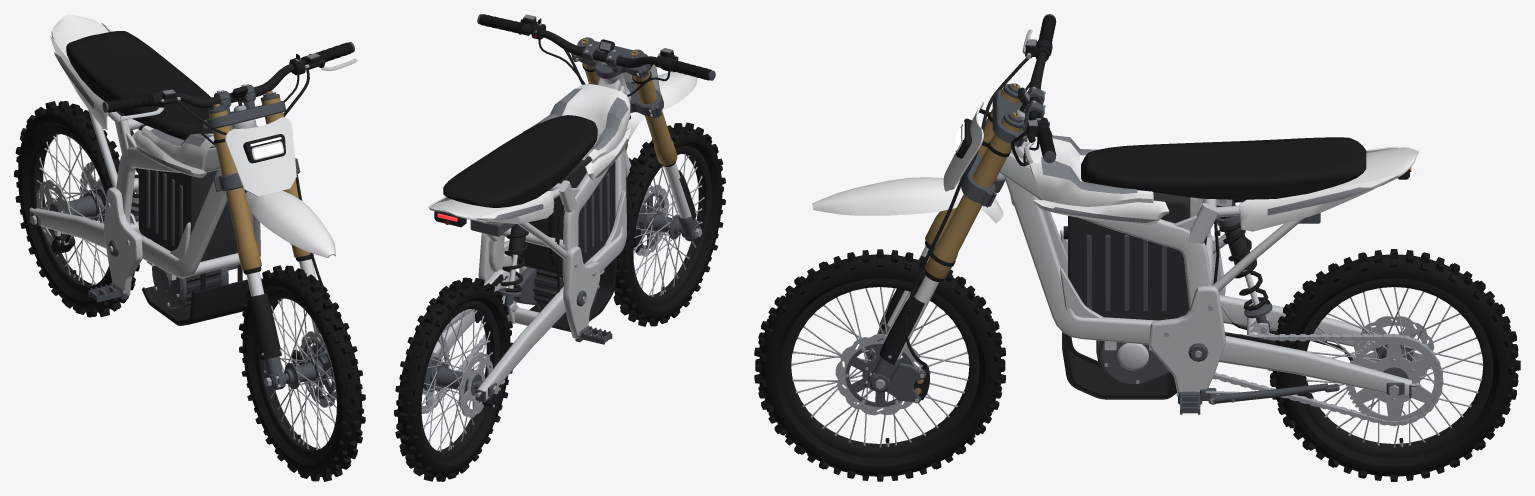
File: SurRonLightBee.glb
The picture shows the model from 3 angles, left to right: view 1: azimuth 30°, elevation 25°; view 2: azimuth 150°, elevation 25°; view 3: azimuth 270°, elevation 25°; orthographic projection. The views are drawn at different scales.
Visible parts, largest first — view 1: Body, Steering, FrontWheel, RearWheel, ForkLowers, Swingarm, Steering_NeonWhite; view 2: Body, RearWheel, FrontWheel, Steering, Swingarm, ForkLowers, Shock, ShockRod; view 3: Body, RearWheel, FrontWheel, Steering, Swingarm, ForkLowers, Shock.
Part boxes in pixels (x1,y1,x2,y2): Body: (50, 14, 260, 325); Steering: (102, 42, 357, 274); FrontWheel: (239, 265, 365, 481); RearWheel: (14, 101, 139, 317); ForkLowers: (246, 254, 331, 390); Swingarm: (29, 161, 141, 254); Steering_NeonWhite: (250, 137, 282, 158); Body: (428, 73, 630, 344); RearWheel: (394, 277, 512, 481); FrontWheel: (613, 122, 725, 326); Steering: (477, 14, 715, 166); Swingarm: (421, 269, 565, 413); ForkLowers: (625, 150, 701, 252); Shock: (500, 224, 528, 292); ShockRod: (498, 254, 521, 313); Body: (997, 135, 1418, 414); RearWheel: (1268, 249, 1520, 481); FrontWheel: (754, 249, 1005, 481); Steering: (812, 14, 1056, 281); Swingarm: (1213, 295, 1443, 426); ForkLowers: (865, 246, 939, 403); Shock: (1216, 200, 1270, 310).
Size of the model in its own units: 2.88 by 3.9 by 6.71.
Materials: 1 (1 with a texture image).
